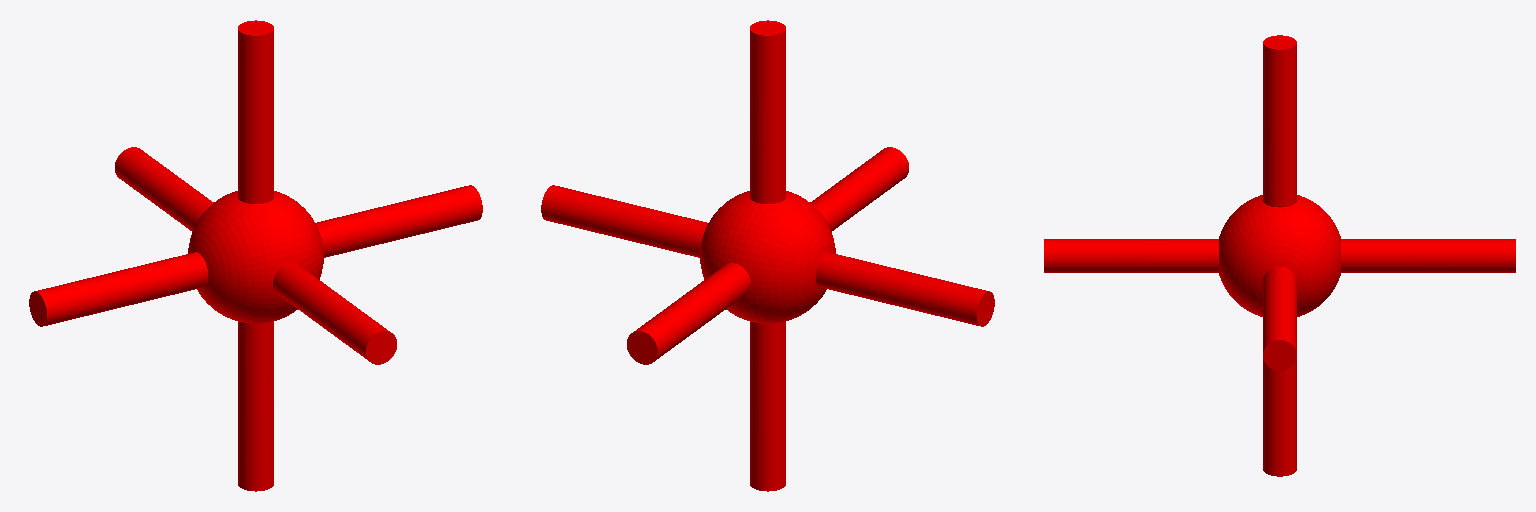
robot.urdf — rubix_cube:
<?xml version="1.0" encoding="UTF-8"?>

<robot name="rubix_cube">

    <link name="my_link">
        <visual>
            
            <geometry>
                <mesh filename="package://rubix_cube/meshes/Center_Part.stl" scale="100 100 100"/>
            </geometry>
            <material>
                <color rgba="1 0 0 1"/>
            </material>
        </visual>

        <inertial>
            <mass value="0.1"/>
            <inertia ixx="0.001" ixy="0" ixz="0" iyy="0.001" iyz="0" izz="0.001"/>
        </inertial>
    </link>


</robot>

--- What the picture shows (computed from the rendered views, not written in the file) ---
The picture shows the robot from 3 angles, left to right: view 1: azimuth 30°, elevation 25°; view 2: azimuth 150°, elevation 25°; view 3: azimuth 270°, elevation 25°; orthographic projection.
Model rubix_cube with 1 links and 0 joints (none), rooted at my_link, posed all joints at 0.
Visible links, largest first — view 1: my_link; view 2: my_link; view 3: my_link.
Link boxes in pixels (<box>): my_link: <box>29,20,482,491</box>; my_link: <box>541,20,994,491</box>; my_link: <box>1044,35,1515,476</box>.
Size in the robot's own frame: 5.55 by 5.55 by 5.55 metres.
Meshes: 1 distinct files referenced, 1 mesh visuals loaded (1 binary STL).
